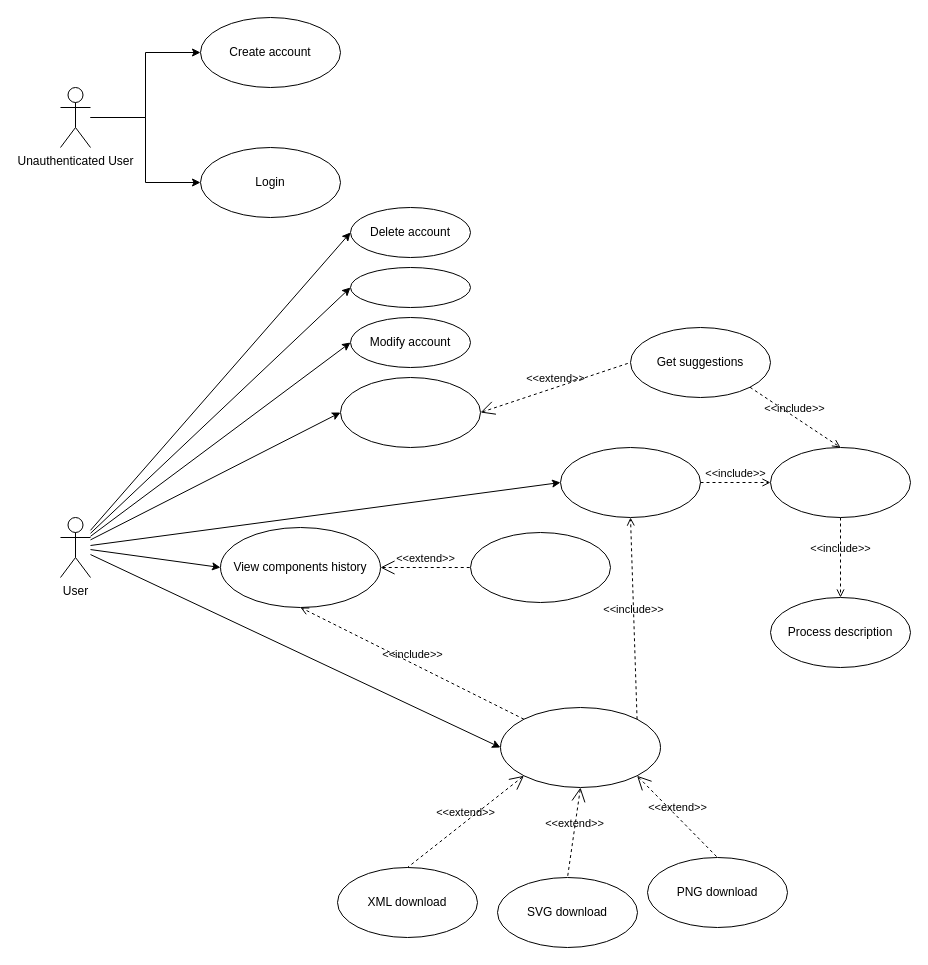
Some shapes in this 928 by 965 pixel diagram are drawn without their labels. Each missing label, with the centre of its shape:
"Download content" belongs at (580,747).
"Generate component" belongs at (630,482).
"Get Help" belongs at (410,412).
"Interpret description" belongs at (840,482).
"Logout" belongs at (410,287).
"View filtered history" belongs at (540,567).
